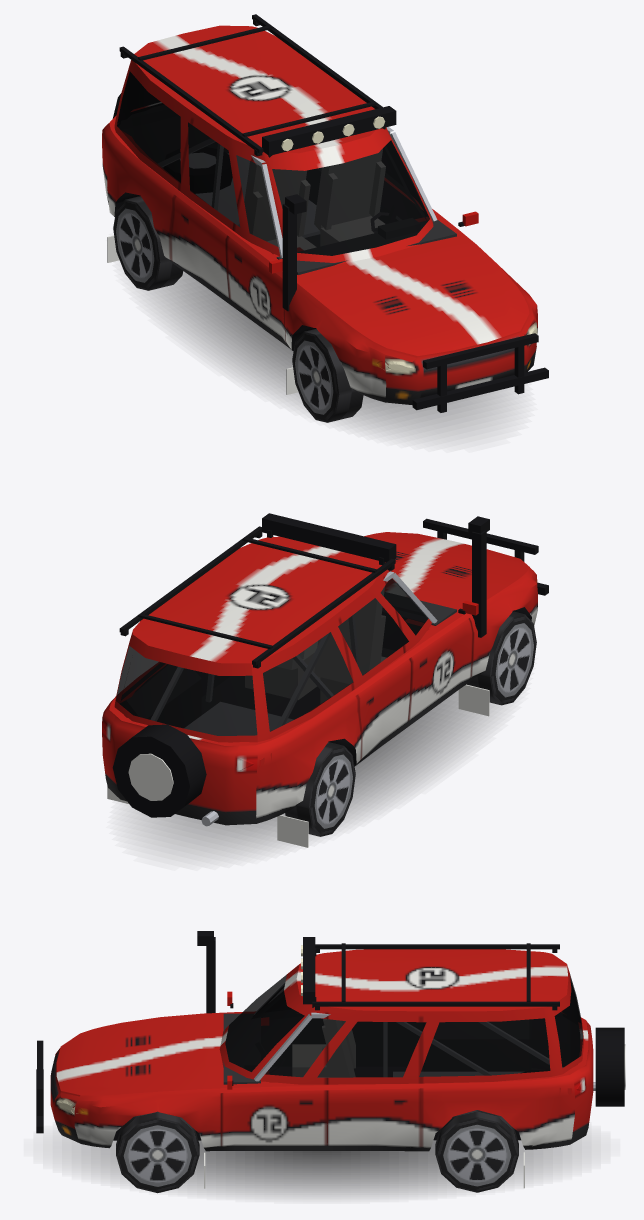
File: chapada.glb
The picture shows the model from 3 angles, top to bottom: view 1: azimuth 30°, elevation 25°; view 2: azimuth 150°, elevation 25°; view 3: azimuth 270°, elevation 25°; orthographic projection. The views are drawn at different scales.
Parts seen in each view (by area): view 1: Carroceria, Interior, Capo_malha, Sombra, Porta_TD_malha, Porta_D_malha, Roda_DD, Roda_TD, Tampa_malha; view 2: Carroceria, Tampa_malha, Interior, Sombra, Porta_TD_malha, Capo_malha, Porta_D_malha, Roda_TD, Roda_DD; view 3: Carroceria, Interior, Sombra, Porta_TE_malha, Capo_malha, Porta_E_malha, Roda_TE, Roda_DE, Tampa_malha.
Part boxes in pixels (x1=…): Carroceria: x1=102, y1=14, x2=548, y2=412; Interior: x1=119, y1=105, x2=456, y2=274; Capo_malha: x1=303, y1=242, x2=533, y2=361; Sombra: x1=146, y1=271, x2=511, y2=437; Porta_TD_malha: x1=170, y1=113, x2=254, y2=297; Porta_D_malha: x1=226, y1=152, x2=285, y2=341; Roda_DD: x1=292, y1=328, x2=363, y2=422; Roda_TD: x1=113, y1=196, x2=183, y2=290; Tampa_malha: x1=112, y1=72, x2=163, y2=125; Carroceria: x1=102, y1=513, x2=548, y2=847; Tampa_malha: x1=111, y1=634, x2=257, y2=817; Interior: x1=120, y1=571, x2=456, y2=735; Sombra: x1=132, y1=690, x2=499, y2=855; Porta_TD_malha: x1=338, y1=573, x2=411, y2=759; Capo_malha: x1=364, y1=532, x2=533, y2=605; Porta_D_malha: x1=382, y1=571, x2=478, y2=719; Roda_TD: x1=285, y1=742, x2=355, y2=836; Roda_DD: x1=466, y1=611, x2=536, y2=705; Carroceria: x1=36, y1=931, x2=595, y2=1188; Interior: x1=223, y1=984, x2=579, y2=1084; Sombra: x1=62, y1=1136, x2=581, y2=1196; Porta_TE_malha: x1=327, y1=1006, x2=420, y2=1146; Capo_malha: x1=61, y1=1015, x2=208, y2=1101; Porta_E_malha: x1=221, y1=1006, x2=326, y2=1145; Roda_TE: x1=435, y1=1110, x2=518, y2=1192; Roda_DE: x1=116, y1=1111, x2=199, y2=1193; Tampa_malha: x1=553, y1=964, x2=625, y2=1122.
Bounding box in the file's own units: 2.64 × 1.96 × 5.9.
14 materials, 5 textured.
